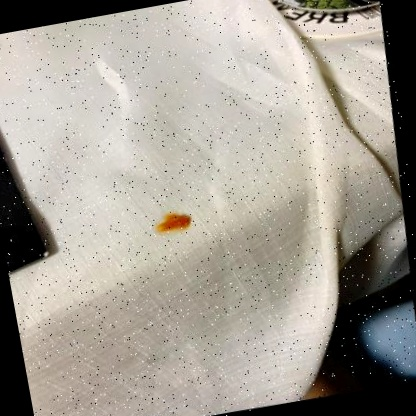kimchi: (147, 206, 195, 240)
